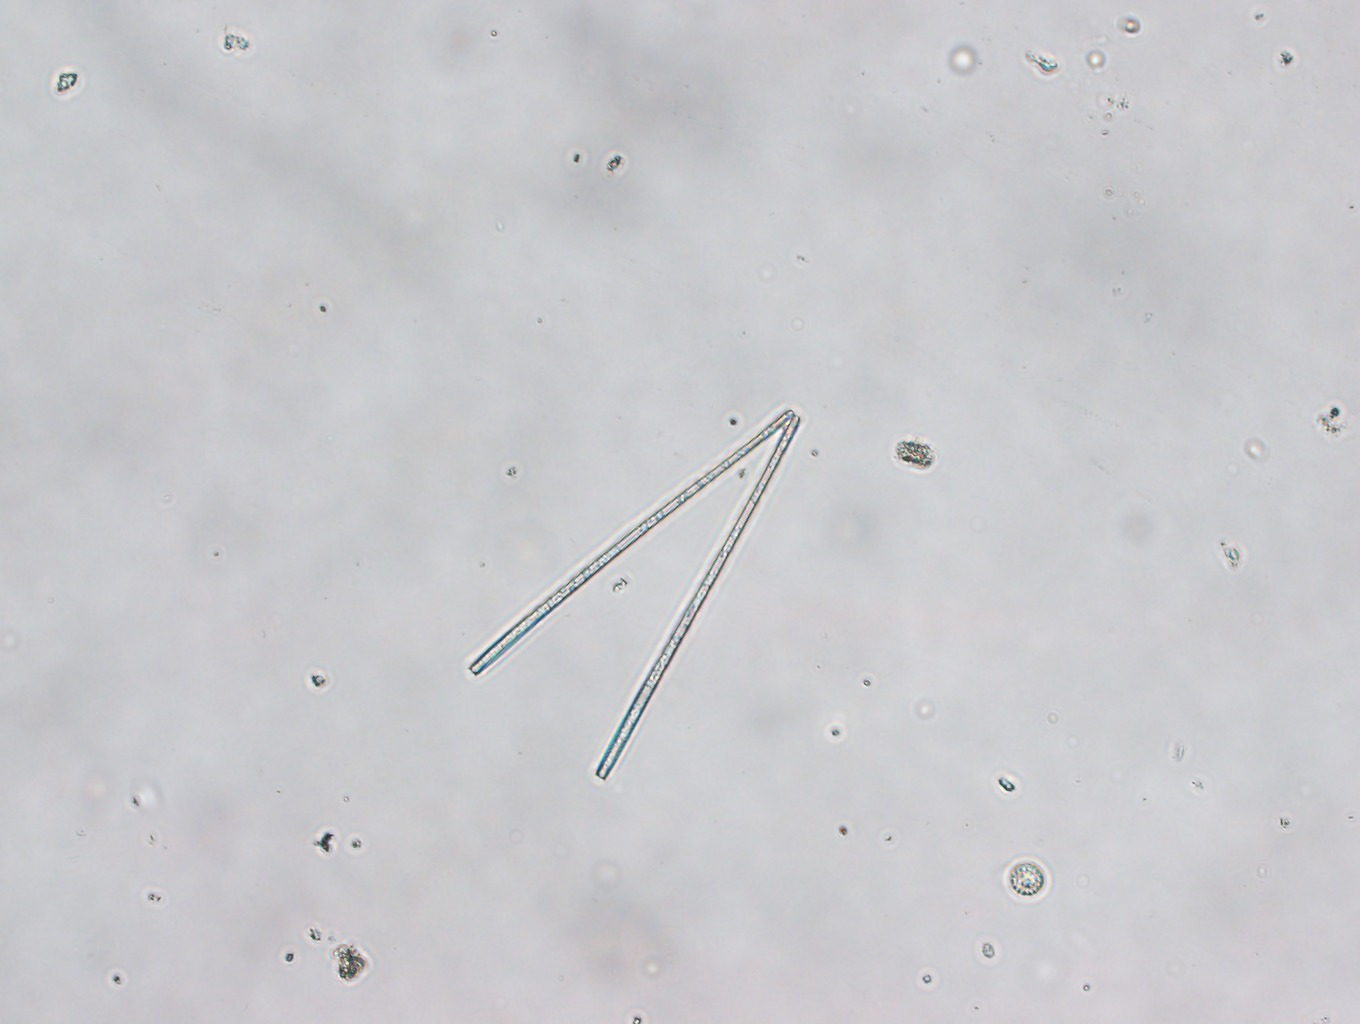thalassionema frauenfeldii: (455, 397, 808, 785)
